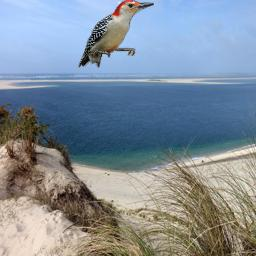Woodpecker: (78, 0, 154, 68)
